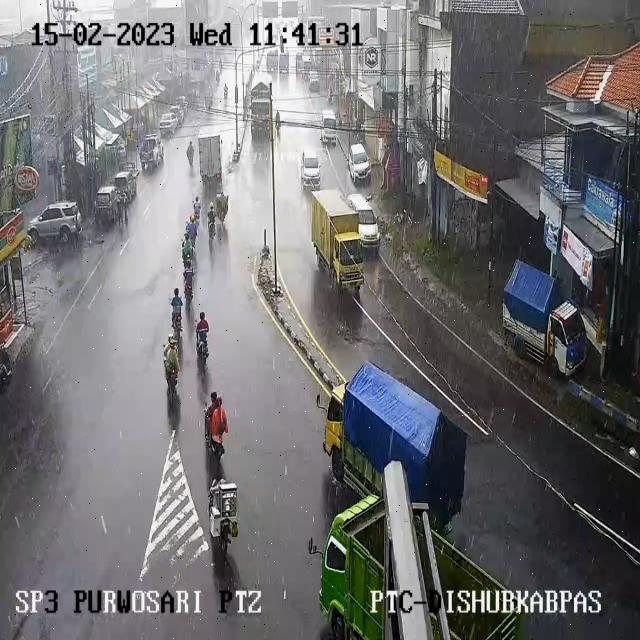Car: (26, 202, 81, 245), (349, 193, 385, 258), (94, 186, 124, 224), (299, 144, 322, 188), (348, 142, 370, 182), (112, 170, 139, 202), (140, 134, 164, 170), (320, 110, 338, 143), (158, 111, 180, 134), (266, 48, 279, 74), (169, 104, 185, 125), (188, 80, 202, 101), (308, 68, 320, 92), (300, 53, 312, 76), (116, 144, 128, 167), (175, 96, 188, 116), (278, 52, 290, 73), (296, 52, 306, 69), (299, 66, 309, 82)
Motorbike: (202, 472, 241, 548), (203, 391, 231, 464), (163, 338, 180, 387), (195, 312, 209, 348), (170, 292, 182, 326), (215, 192, 228, 222), (183, 267, 194, 297), (182, 236, 194, 262), (186, 220, 197, 243), (207, 205, 216, 231), (193, 197, 201, 219), (187, 142, 194, 165), (223, 84, 228, 100)
Truck: (317, 479, 523, 637), (321, 360, 469, 521), (503, 260, 588, 380), (309, 194, 368, 286), (248, 74, 274, 136), (197, 130, 223, 190)
